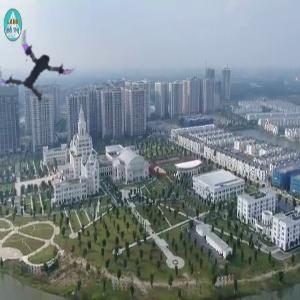drone: (4, 30, 78, 104)
